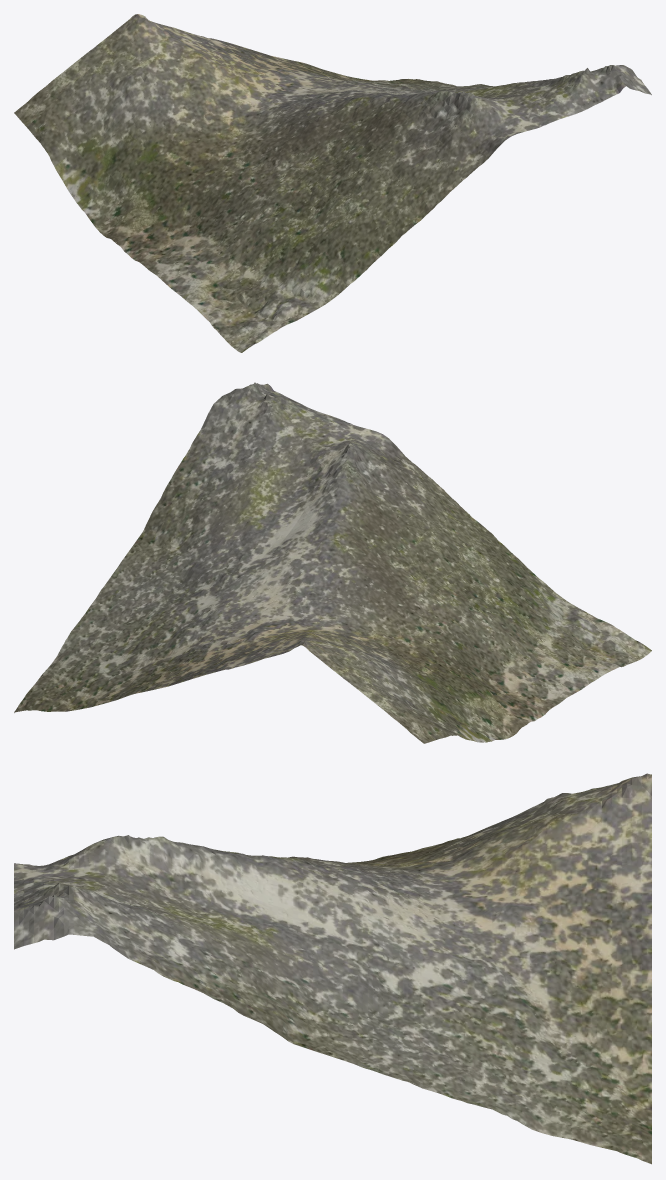
3 renders of one model, top to bottom at view 1: azimuth 30°, elevation 25°; view 2: azimuth 150°, elevation 25°; view 3: azimuth 270°, elevation 25°, orthographic. The views are drawn at different scales.
Size of the model in its own units: 500 by 216 by 481.
Materials: 1 (1 with a texture image).
